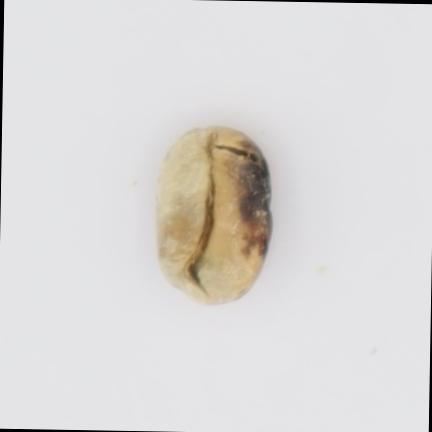partial-black: (157, 126, 271, 303)
